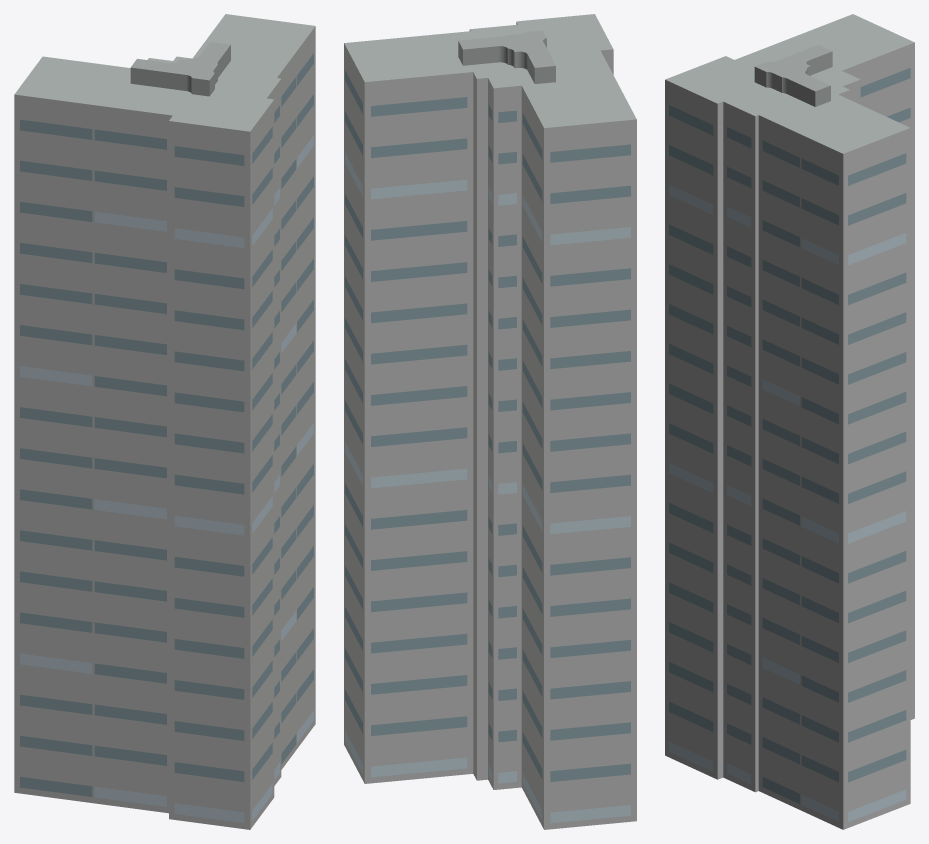
Rendered from fallback-gaepo-xi-presidence-418.glb.
3 renders of one model, left to right at view 1: azimuth 30°, elevation 25°; view 2: azimuth 150°, elevation 25°; view 3: azimuth 270°, elevation 25°, orthographic. The views are drawn at different scales.
Parts seen in each view (by area): view 1: fallback-gaepo-xi-presidence-418; view 2: fallback-gaepo-xi-presidence-418; view 3: fallback-gaepo-xi-presidence-418.
Boxes of the visible parts, box(x1,y1,x2,y2) form: fallback-gaepo-xi-presidence-418: box(14, 14, 315, 829); fallback-gaepo-xi-presidence-418: box(344, 14, 636, 829); fallback-gaepo-xi-presidence-418: box(665, 14, 914, 829).
Size of the model in its own units: 46.05 by 106 by 34.74.
